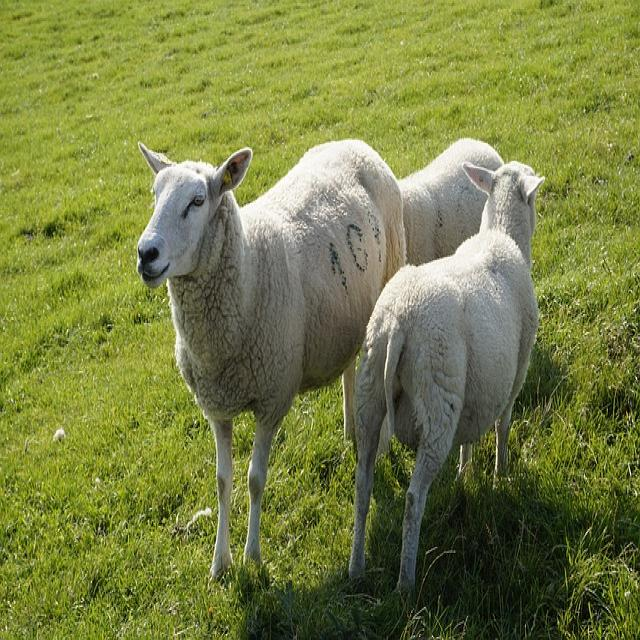goat: (138, 139, 405, 577), (350, 162, 544, 591), (399, 139, 504, 265)
